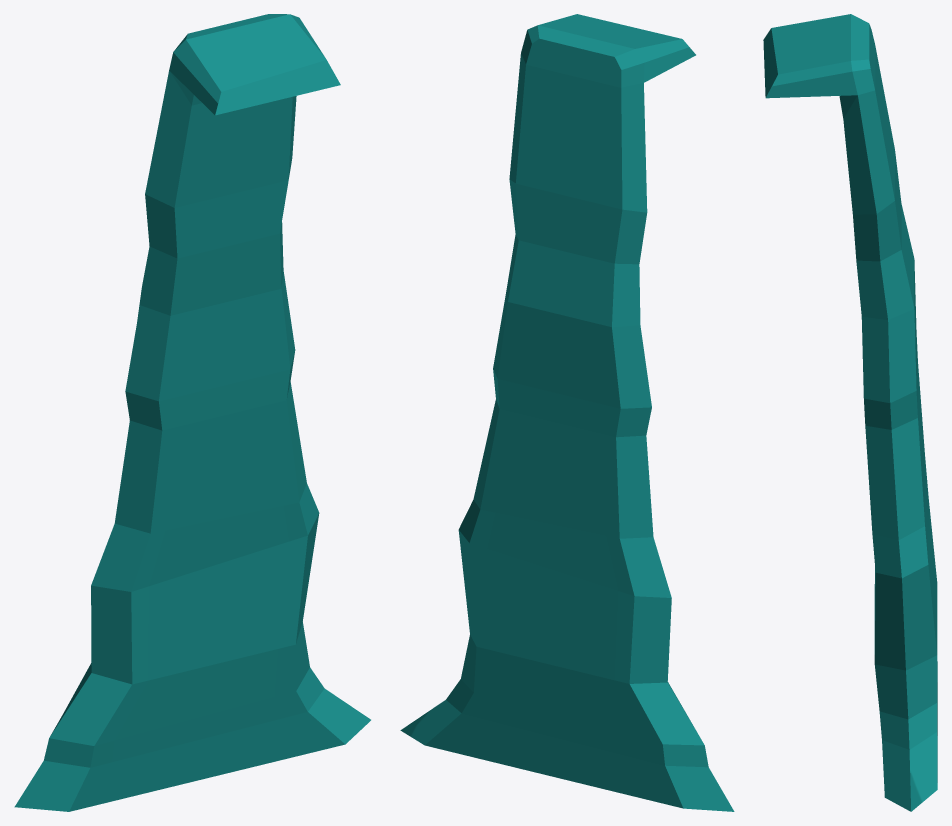
The model's file is CascadaAnimada_000007.obj.
3 views of the same model, side by side, from view 1: azimuth 30°, elevation 25°; view 2: azimuth 150°, elevation 25°; view 3: azimuth 270°, elevation 25° (orthographic). The views are drawn at different scales.
Parts seen in each view (by area): view 1: Cube.053, Cube.054; view 2: Cube.053, Cube.054; view 3: Cube.053, Cube.054.
Boxes of the visible parts, <box> form: Cube.053: <box>14,14,370,811</box>; Cube.054: <box>169,14,340,115</box>; Cube.053: <box>400,25,734,811</box>; Cube.054: <box>538,14,695,82</box>; Cube.053: <box>839,14,937,811</box>; Cube.054: <box>763,14,857,98</box>.
Bounding box in the file's own units: 136 × 277 × 62.23.
